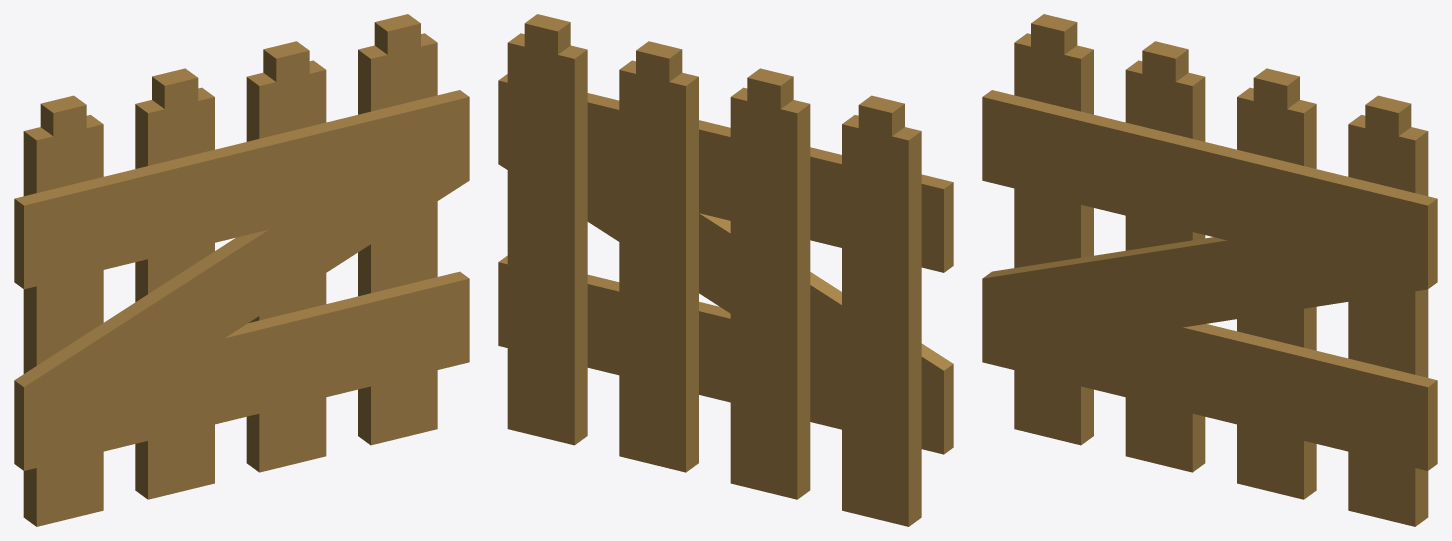
File: fbx_fencegate.fbx
The picture shows the model from 3 angles, left to right: view 1: azimuth 30°, elevation 25°; view 2: azimuth 150°, elevation 25°; view 3: azimuth 330°, elevation 25°; orthographic projection.
Parts seen in each view (by area): view 1: sm_fencegate; view 2: sm_fencegate; view 3: sm_fencegate.
Boxes of the visible parts, left/top/right/bottom form: sm_fencegate: left=14, top=14, right=469, bottom=526; sm_fencegate: left=498, top=14, right=953, bottom=526; sm_fencegate: left=982, top=14, right=1437, bottom=526.
Bounding box in the file's own units: 100 × 87.89 × 8.74.
